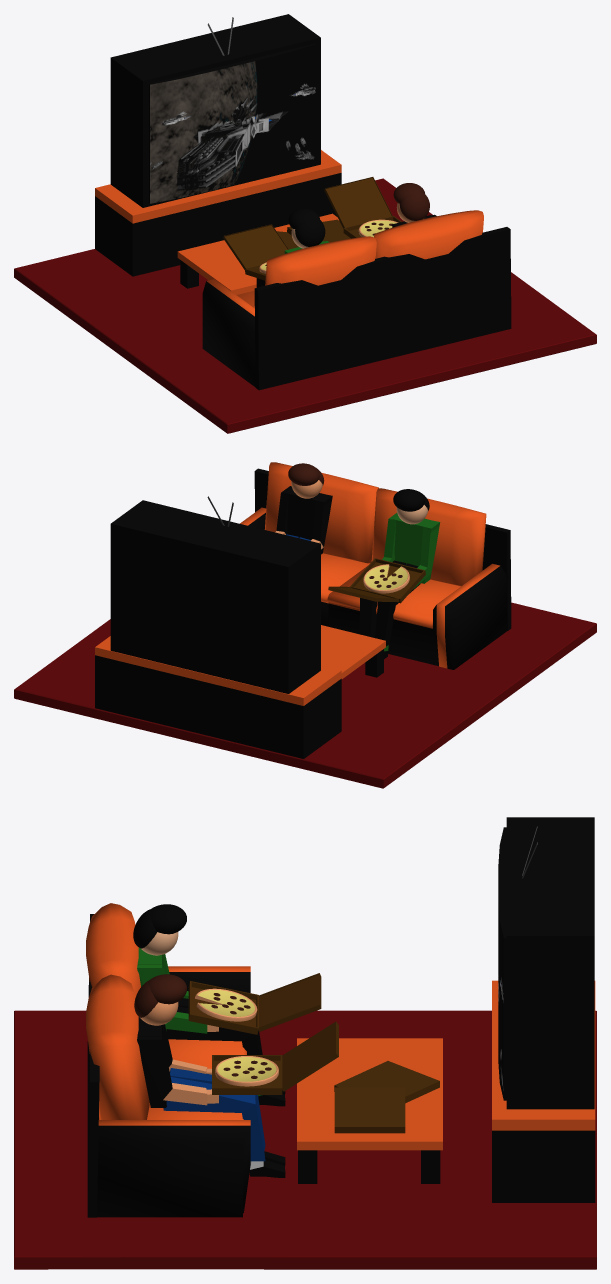
Rendered from Movie-model.glb.
3 renders of one model, top to bottom at view 1: azimuth 30°, elevation 25°; view 2: azimuth 150°, elevation 25°; view 3: azimuth 270°, elevation 25°, orthographic. The views are drawn at different scales.
Parts seen in each view (by area): view 1: ModelPlocha, Cube.002, Cube.008, Cube.001, Cube, Cube.010, Cube.009, Cube.005, Cube.003, Cube.007, Sphere.004, Sphere.002; view 2: Cube.002, ModelPlocha, Cube.001, Cube, Cube.009, Cube.010, Cube.003, Cube.008, Cube.007, Cube.021, Cube.019, Cube.016 (+5 smaller); view 3: ModelPlocha, Cube.002, Cube, Cube.001, Cube.003, Cube.009, Cube.007, Cube.010, Cube.005, Cube.004, Cube.018, Cube.017 (+12 smaller).
Part boxes in pixels (left/top/right/bottom): ModelPlocha: left=14, top=178, right=596, bottom=433; Cube.002: left=110, top=14, right=320, bottom=207; Cube.008: left=254, top=227, right=511, bottom=390; Cube.001: left=95, top=150, right=341, bottom=276; Cube: left=202, top=279, right=255, bottom=387; Cube.010: left=265, top=236, right=376, bottom=285; Cube.009: left=374, top=210, right=483, bottom=259; Cube.005: left=324, top=177, right=401, bottom=238; Cube.003: left=177, top=213, right=338, bottom=294; Cube.007: left=223, top=224, right=288, bottom=280; Sphere.004: left=295, top=218, right=325, bottom=246; Sphere.002: left=399, top=193, right=429, bottom=220; Cube.002: left=110, top=500, right=320, bottom=693; ModelPlocha: left=14, top=602, right=596, bottom=788; Cube.001: left=95, top=636, right=341, bottom=758; Cube: left=240, top=507, right=507, bottom=669; Cube.009: left=264, top=462, right=378, bottom=563; Cube.010: left=371, top=488, right=486, bottom=586; Cube.003: left=321, top=625, right=385, bottom=679; Cube.008: left=254, top=468, right=511, bottom=630; Cube.007: left=328, top=558, right=425, bottom=603; Cube.021: left=359, top=560, right=420, bottom=658; Cube.019: left=392, top=515, right=440, bottom=583; Cube.016: left=285, top=488, right=332, bottom=554; ModelPlocha: left=14, top=1010, right=596, bottom=1269; Cube.002: left=498, top=817, right=594, bottom=1109; Cube: left=97, top=966, right=250, bottom=1217; Cube.001: left=492, top=980, right=595, bottom=1202; Cube.003: left=297, top=1038, right=442, bottom=1150; Cube.009: left=86, top=974, right=149, bottom=1119; Cube.007: left=188, top=973, right=321, bottom=1034; Cube.010: left=86, top=903, right=140, bottom=996; Cube.005: left=212, top=1021, right=338, bottom=1094; Cube.004: left=334, top=1087, right=405, bottom=1133; Cube.018: left=163, top=1068, right=285, bottom=1177; Cube.017: left=137, top=1024, right=218, bottom=1105.
Bounding box in the file's own units: 5.95 × 3.52 × 5.95.
14 materials, 1 textured.
